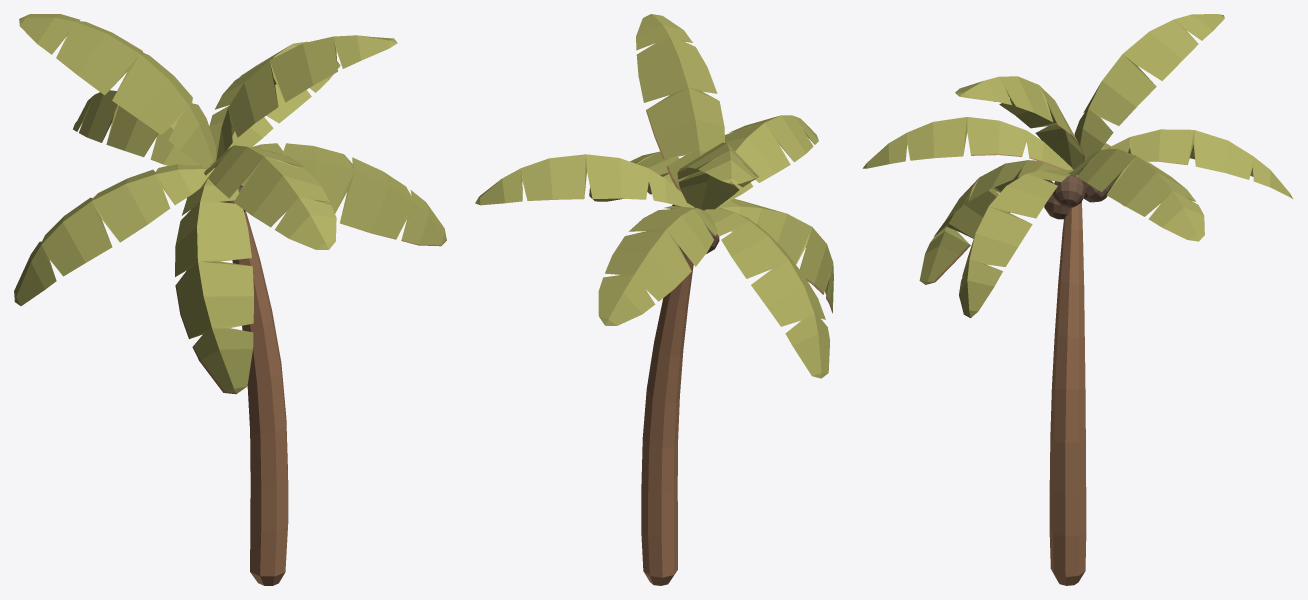
File: pohon 1.fbx
3 views of the same model, side by side, from view 1: azimuth 30°, elevation 25°; view 2: azimuth 150°, elevation 25°; view 3: azimuth 270°, elevation 25° (orthographic). The views are drawn at different scales.
Visible parts, largest first — view 1: Cylinder.002; view 2: Cylinder.002; view 3: Cylinder.002.
Part boxes in pixels (x1,y1,x2,y2): Cylinder.002: [14, 14, 446, 585]; Cylinder.002: [475, 14, 833, 585]; Cylinder.002: [862, 14, 1292, 585].
Size of the model in its own units: 478 by 741 by 557.
